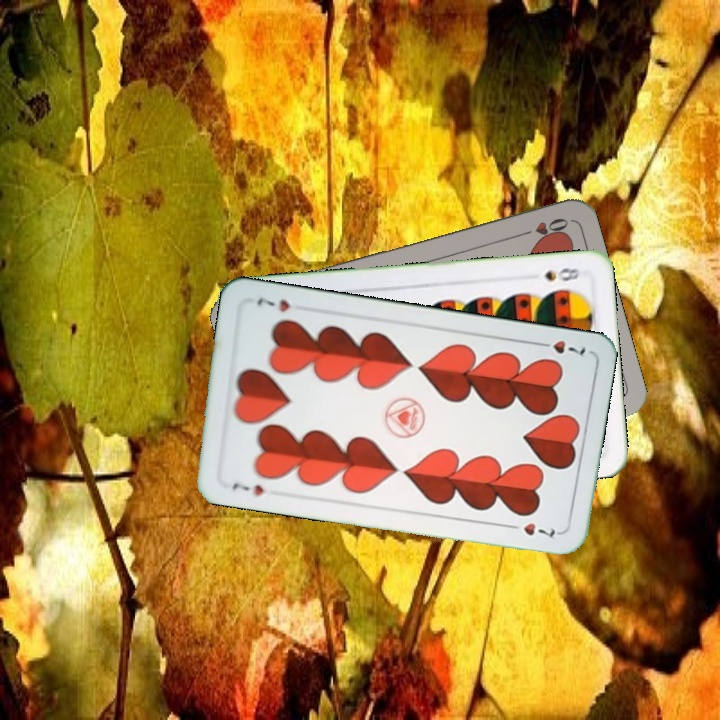H7: (532, 336, 588, 358), (228, 478, 266, 498)
HO: (514, 214, 571, 240)
S8: (540, 263, 583, 284)
